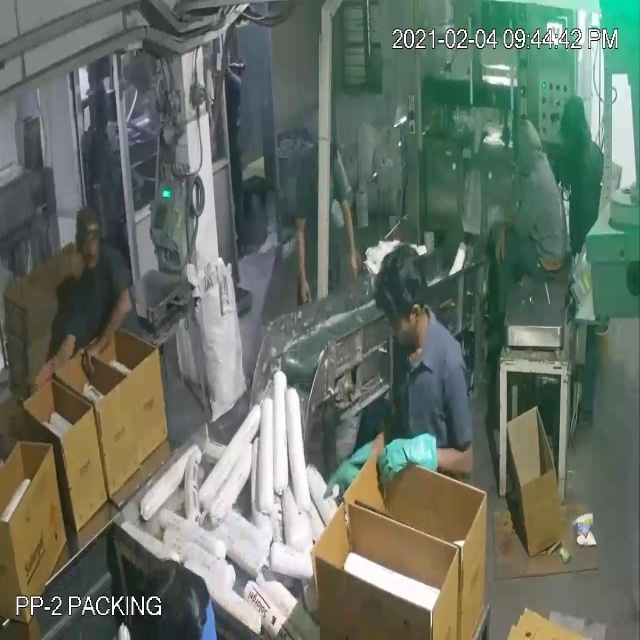Guantes: (381, 427, 444, 494), (324, 440, 377, 506)
Sin_guantes: (81, 270, 142, 376), (24, 320, 87, 398), (333, 175, 360, 285), (292, 208, 316, 316)
